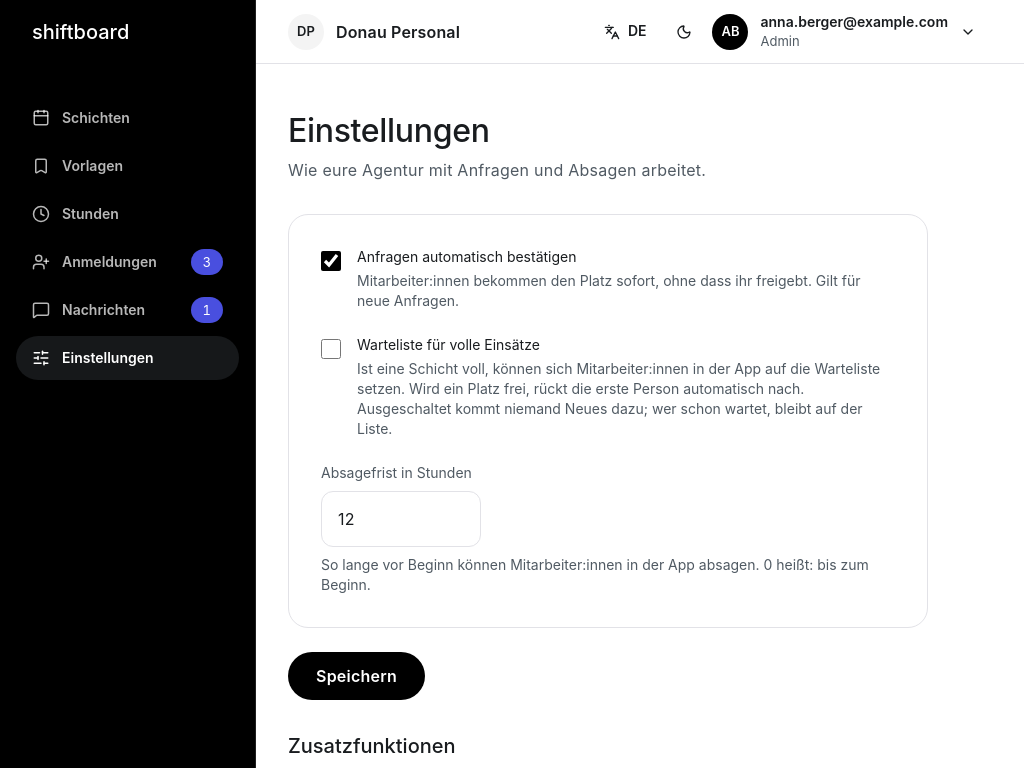
it: agency settings › lets an admin switch on the waitlist and keeps the other settings
Click the checkbox labelled "Warteliste für volle Einsätze" at (331, 349), box [321,339,341,359]
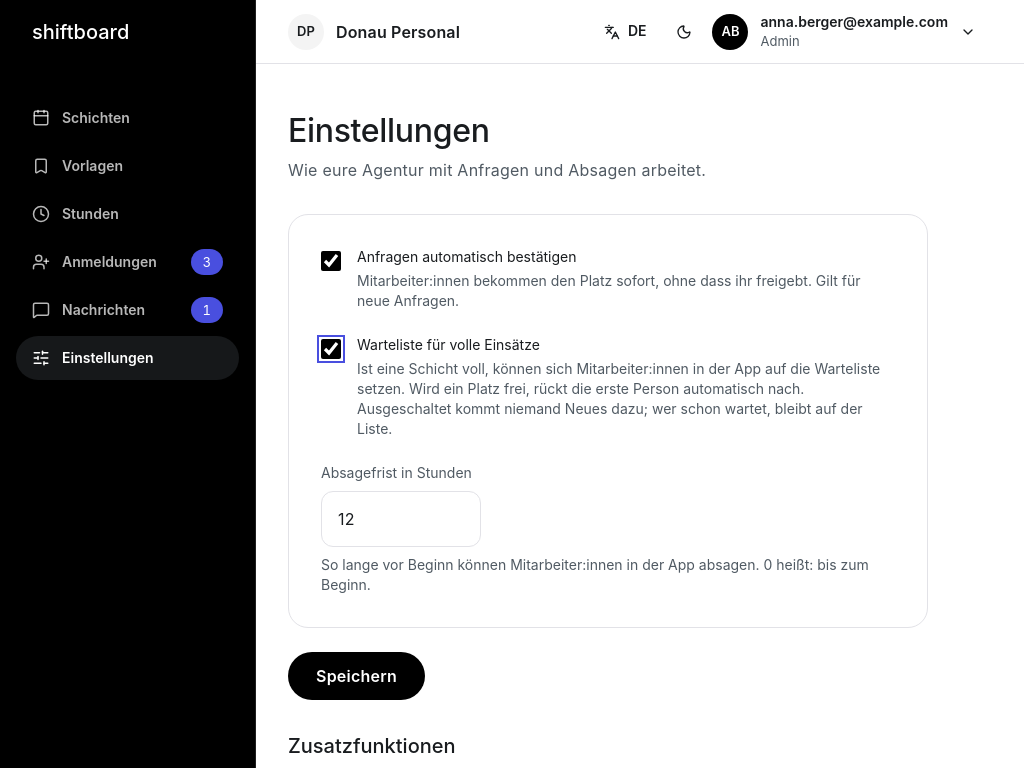
Click the button "Speichern" at (357, 676), box [288,652,425,700]
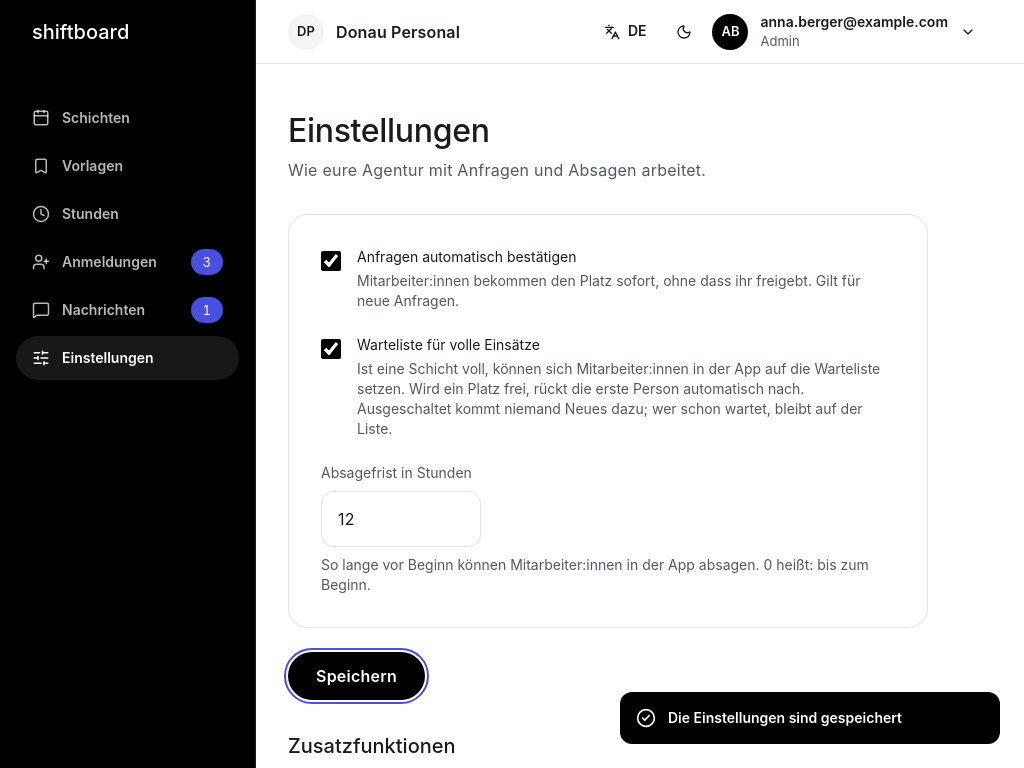
Expected: the text "Die Einstellungen sind gespeichert" is shown, [668,708,902,728]
